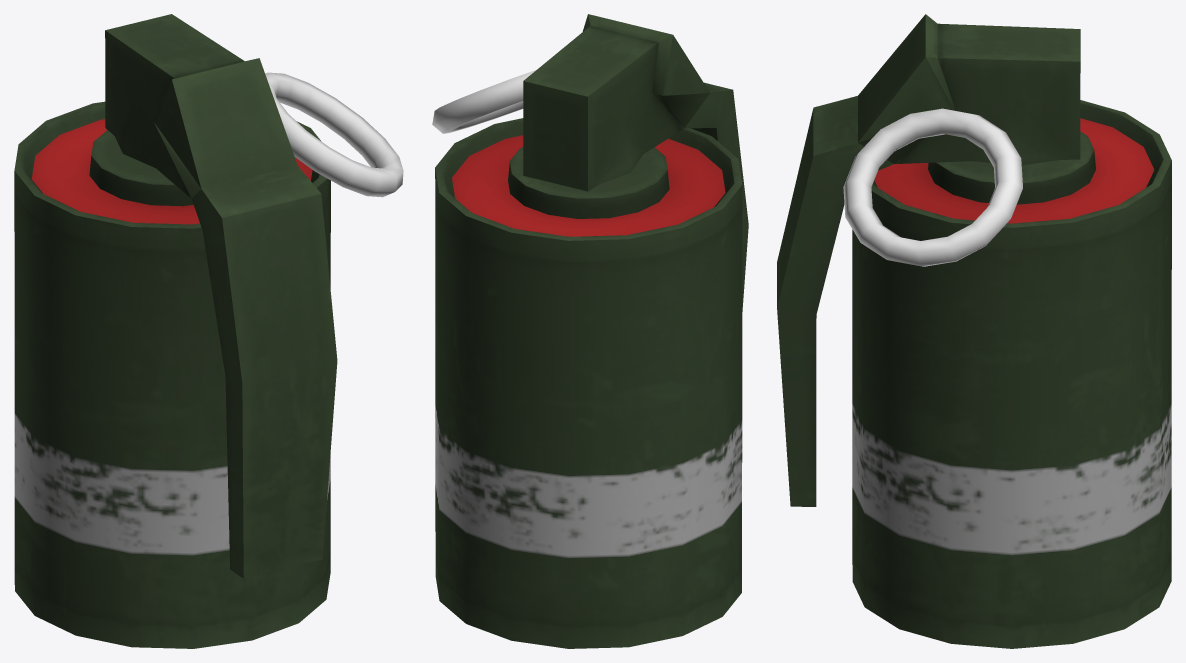
Rendered from Grenade_Smoke.fbx.
3 renders of one model, left to right at view 1: azimuth 30°, elevation 25°; view 2: azimuth 150°, elevation 25°; view 3: azimuth 270°, elevation 25°, orthographic. The views are drawn at different scales.
Visible parts, largest first — view 1: SM_Ammunition_8; view 2: SM_Ammunition_8; view 3: SM_Ammunition_8.
Boxes of the visible parts, left/top/right/bottom form: SM_Ammunition_8: left=14, top=14, right=403, bottom=648; SM_Ammunition_8: left=432, top=14, right=748, bottom=648; SM_Ammunition_8: left=777, top=14, right=1171, bottom=648.
Bounding box in the file's own units: 0.3296 × 0.5374 × 0.3513.
